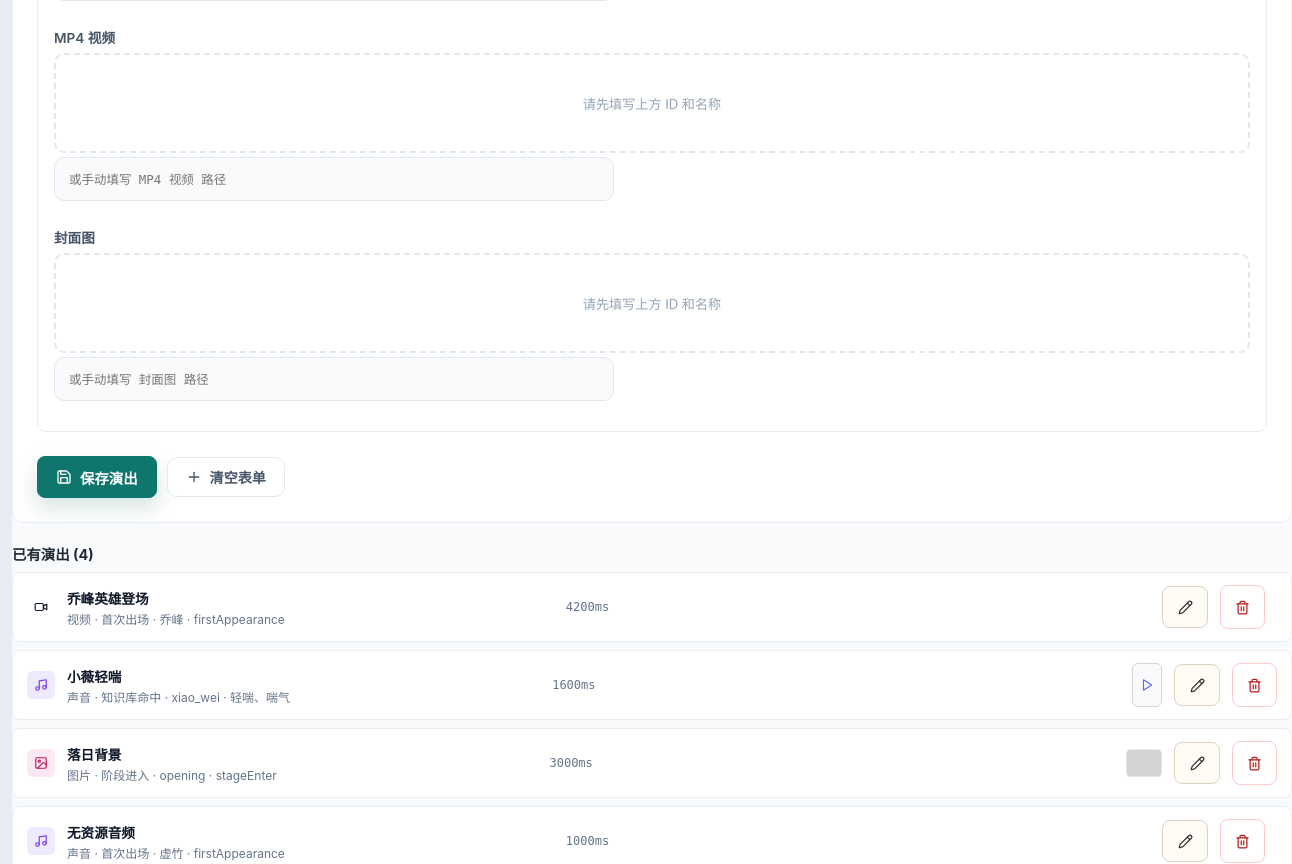
Test: PerformanceConfigPanel › edit › cancels edit and resets form
This screenshot has width=1292, height=864.
(page scrolled)
Click the button named "编辑演出" in the row of "4200".
click(1185, 607)  # box x1=1162 y1=586 x2=1208 y2=628
(page scrolled)
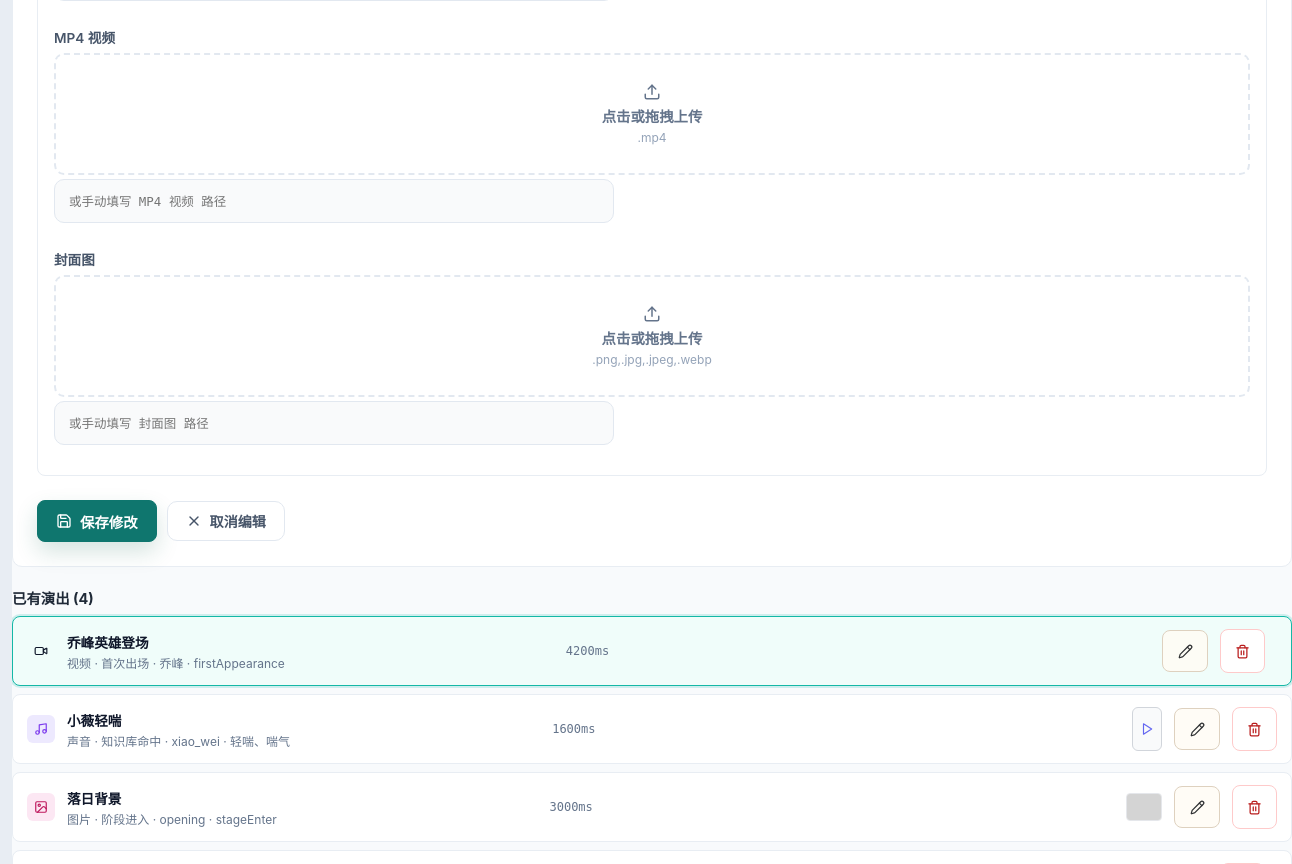
Click the button "取消编辑".
click(226, 521)  # box x1=167 y1=501 x2=285 y2=541
(page scrolled)
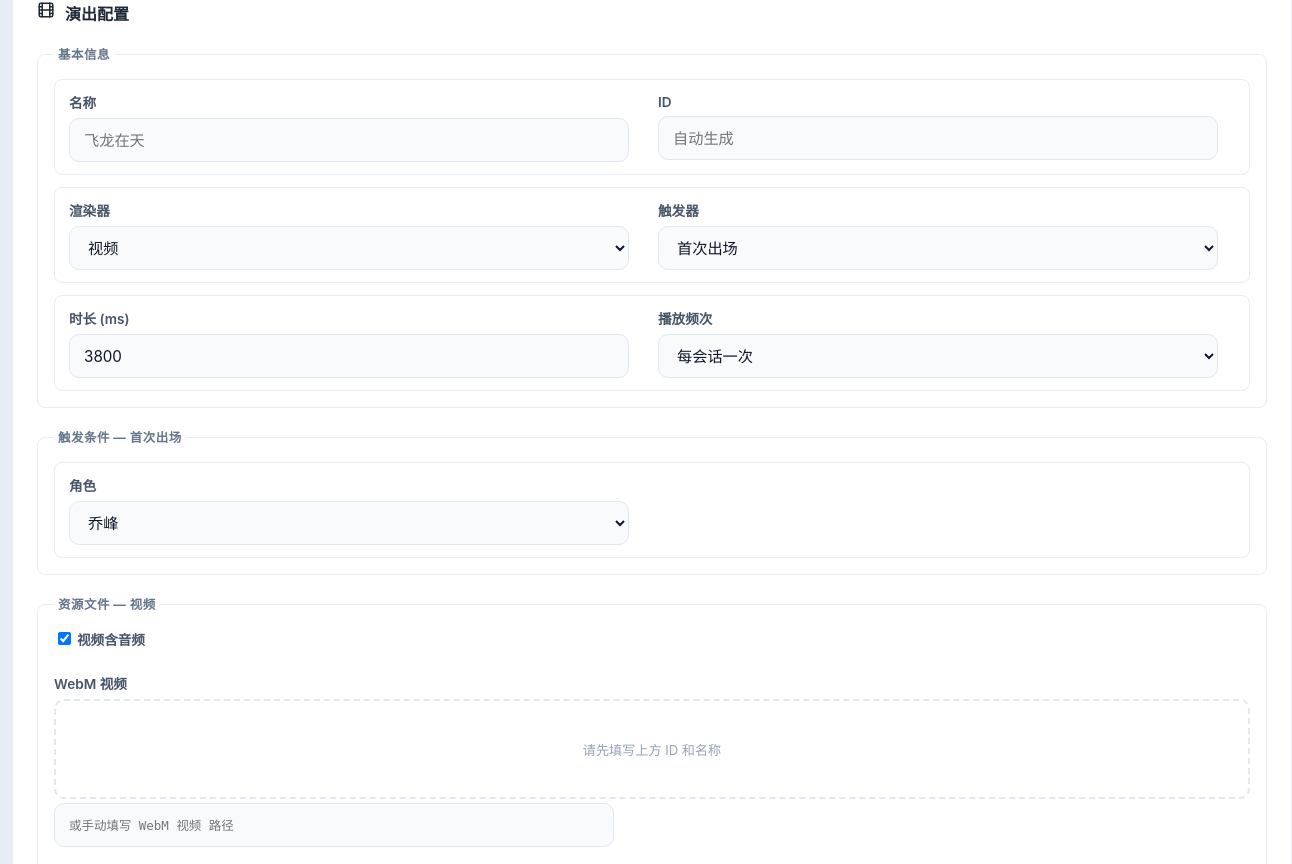
Check: the field with placeholder "飞龙在天" is empty, box x1=69 y1=118 x2=629 y2=162
Check: the button "保存修改" is gone
